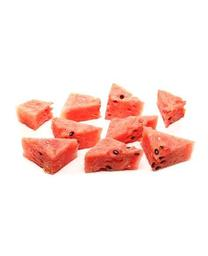watermelon: (17, 83, 196, 175)
